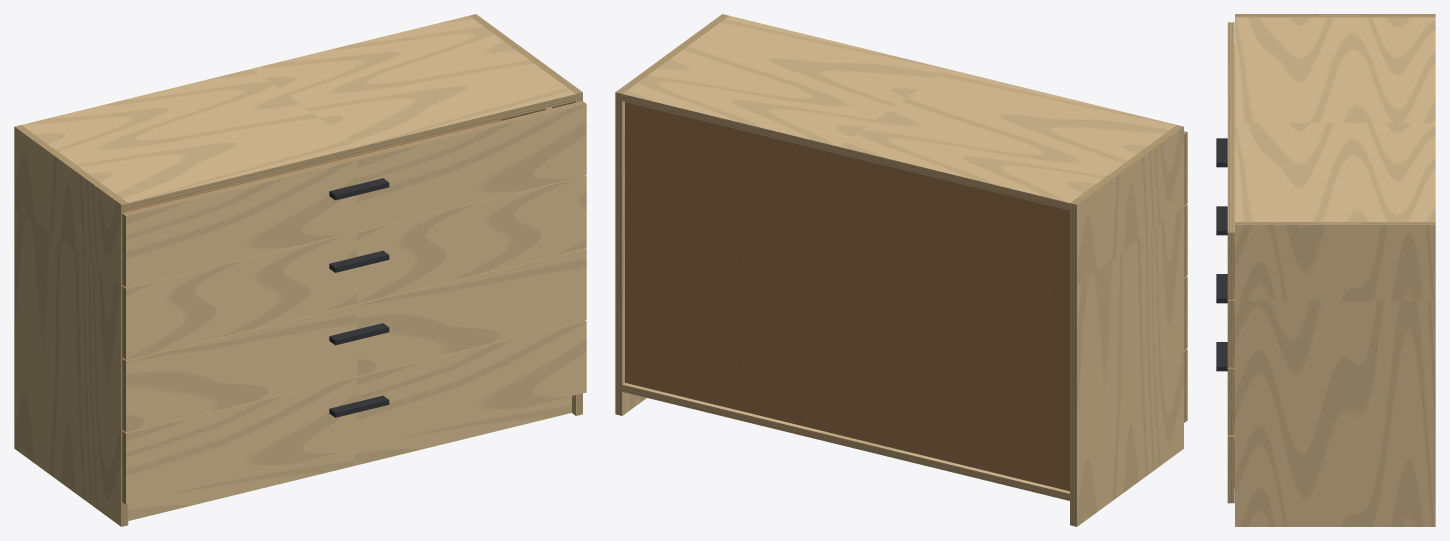
The model's file is SAB-DRS-std.glb.
The picture shows the model from 3 angles, left to right: view 1: azimuth 30°, elevation 25°; view 2: azimuth 150°, elevation 25°; view 3: azimuth 270°, elevation 25°; orthographic projection. The views are drawn at different scales.
Parts seen in each view (by area): view 1: top:sheet:eyJtIjoicGx5Iiwic2lkZSI6ImZhY2UiLCJzZWVkIjo2LCJ2ZW, side-l:sheet:eyJtIjoicGx5Iiwic2lkZSI6ImZhY2UiLCJzZWVkIjoxLCJ, d1-front:sheet:eyJtIjoicGx5Iiwic2lkZSI6ImZhY2UiLCJzZWVkIjoyL, d2-front:sheet:eyJtIjoicGx5Iiwic2lkZSI6ImZhY2UiLCJzZWVkIjo2L, d3-front:sheet:eyJtIjoicGx5Iiwic2lkZSI6ImZhY2UiLCJzZWVkIjowL, d4-front:sheet:eyJtIjoicGx5Iiwic2lkZSI6ImZhY2UiLCJzZWVkIjoyL, plinth:sheet:eyJtIjoicGx5Iiwic2lkZSI6ImZhY2UiLCJzZWVkIjozLCJ, top:sheet:eyJtIjoicGx5Iiwic2lkZSI6ImVkZ2UtbG9uZyIsInNlZWQiOj, pull, d4-front:sheet:eyJtIjoicGx5Iiwic2lkZSI6ImVkZ2UtbG9uZyIsInNlZ, d1-front:sheet:eyJtIjoicGx5Iiwic2lkZSI6ImVkZ2UtbG9uZyIsInNlZ, d2-front:sheet:eyJtIjoicGx5Iiwic2lkZSI6ImVkZ2UtbG9uZyIsInNlZ (+5 smaller); view 2: back:sheet:eyJtIjoibWRmIiwic2lkZSI6ImZhY2UiLCJzZWVkIjo0LCJ0a, top:sheet:eyJtIjoicGx5Iiwic2lkZSI6ImZhY2UiLCJzZWVkIjo2LCJ2ZW, side-l:sheet:eyJtIjoicGx5Iiwic2lkZSI6ImZhY2UiLCJzZWVkIjoxLCJ, top:sheet:eyJtIjoicGx5Iiwic2lkZSI6ImVkZ2UtbG9uZyIsInNlZWQiOj, bottom:sheet:eyJtIjoicGx5Iiwic2lkZSI6ImVkZ2UtbG9uZyIsInNlZWQ, side-r:sheet:eyJtIjoicGx5Iiwic2lkZSI6ImVkZ2UtbG9uZyIsInNlZWQ, side-l:sheet:eyJtIjoicGx5Iiwic2lkZSI6ImVkZ2UtbG9uZyIsInNlZWQ, bottom:sheet:eyJtIjoicGx5Iiwic2lkZSI6ImZhY2UiLCJzZWVkIjowLCJ, side-r:sheet:eyJtIjoicGx5Iiwic2lkZSI6ImZhY2UiLCJzZWVkIjozLCJ, side-r:sheet:eyJtIjoicGx5Iiwic2lkZSI6ImVkZ2UtZW5kIiwic2VlZCI, side-l:sheet:eyJtIjoicGx5Iiwic2lkZSI6ImVkZ2UtZW5kIiwic2VlZCI; view 3: side-r:sheet:eyJtIjoicGx5Iiwic2lkZSI6ImZhY2UiLCJzZWVkIjozLCJ, top:sheet:eyJtIjoicGx5Iiwic2lkZSI6ImZhY2UiLCJzZWVkIjo2LCJ2ZW, d4-front:sheet:eyJtIjoicGx5Iiwic2lkZSI6ImVkZ2UtbG9uZyIsInNlZ, pull, side-l:sheet:eyJtIjoicGx5Iiwic2lkZSI6ImVkZ2UtZW5kIiwic2VlZCI, side-r:sheet:eyJtIjoicGx5Iiwic2lkZSI6ImVkZ2UtZW5kIiwic2VlZCI, d3-front:sheet:eyJtIjoicGx5Iiwic2lkZSI6ImVkZ2UtZW5kIiwic2VlZ, d4-front:sheet:eyJtIjoicGx5Iiwic2lkZSI6ImVkZ2UtZW5kIiwic2VlZ, d1-front:sheet:eyJtIjoicGx5Iiwic2lkZSI6ImVkZ2UtZW5kIiwic2VlZ, d2-front:sheet:eyJtIjoicGx5Iiwic2lkZSI6ImVkZ2UtZW5kIiwic2VlZ.
Boxes of the visible parts, left/top/right/bottom form: top:sheet:eyJtIjoicGx5Iiwic2lkZSI6ImZhY2UiLCJzZWVkIjo2LCJ2ZW: left=22, top=16, right=575, bottom=202; side-l:sheet:eyJtIjoicGx5Iiwic2lkZSI6ImZhY2UiLCJzZWVkIjoxLCJ: left=14, top=127, right=121, bottom=526; d1-front:sheet:eyJtIjoicGx5Iiwic2lkZSI6ImZhY2UiLCJzZWVkIjoyL: left=126, top=321, right=586, bottom=504; d2-front:sheet:eyJtIjoicGx5Iiwic2lkZSI6ImZhY2UiLCJzZWVkIjo2L: left=126, top=249, right=586, bottom=432; d3-front:sheet:eyJtIjoicGx5Iiwic2lkZSI6ImZhY2UiLCJzZWVkIjowL: left=126, top=176, right=586, bottom=359; d4-front:sheet:eyJtIjoicGx5Iiwic2lkZSI6ImZhY2UiLCJzZWVkIjoyL: left=126, top=104, right=586, bottom=287; plinth:sheet:eyJtIjoicGx5Iiwic2lkZSI6ImZhY2UiLCJzZWVkIjozLCJ: left=128, top=396, right=571, bottom=520; top:sheet:eyJtIjoicGx5Iiwic2lkZSI6ImVkZ2UtbG9uZyIsInNlZWQiOj: left=128, top=94, right=575, bottom=210; pull: left=329, top=178, right=389, bottom=417; d4-front:sheet:eyJtIjoicGx5Iiwic2lkZSI6ImVkZ2UtbG9uZyIsInNlZ: left=122, top=101, right=585, bottom=215; d1-front:sheet:eyJtIjoicGx5Iiwic2lkZSI6ImVkZ2UtbG9uZyIsInNlZ: left=122, top=320, right=585, bottom=433; d2-front:sheet:eyJtIjoicGx5Iiwic2lkZSI6ImVkZ2UtbG9uZyIsInNlZ: left=122, top=248, right=585, bottom=360; back:sheet:eyJtIjoibWRmIiwic2lkZSI6ImZhY2UiLCJzZWVkIjo0LCJ0a: left=625, top=102, right=1069, bottom=491; top:sheet:eyJtIjoicGx5Iiwic2lkZSI6ImZhY2UiLCJzZWVkIjo2LCJ2ZW: left=623, top=15, right=1176, bottom=202; side-l:sheet:eyJtIjoicGx5Iiwic2lkZSI6ImZhY2UiLCJzZWVkIjoxLCJ: left=1077, top=127, right=1183, bottom=526; top:sheet:eyJtIjoicGx5Iiwic2lkZSI6ImVkZ2UtbG9uZyIsInNlZWQiOj: left=622, top=94, right=1069, bottom=210; bottom:sheet:eyJtIjoicGx5Iiwic2lkZSI6ImVkZ2UtbG9uZyIsInNlZWQ: left=622, top=384, right=1069, bottom=500; side-r:sheet:eyJtIjoicGx5Iiwic2lkZSI6ImVkZ2UtbG9uZyIsInNlZWQ: left=615, top=92, right=622, bottom=415; side-l:sheet:eyJtIjoicGx5Iiwic2lkZSI6ImVkZ2UtbG9uZyIsInNlZWQ: left=1070, top=203, right=1076, bottom=526; bottom:sheet:eyJtIjoicGx5Iiwic2lkZSI6ImZhY2UiLCJzZWVkIjowLCJ: left=623, top=383, right=1069, bottom=493; side-r:sheet:eyJtIjoicGx5Iiwic2lkZSI6ImZhY2UiLCJzZWVkIjozLCJ: left=622, top=101, right=646, bottom=415; side-r:sheet:eyJtIjoicGx5Iiwic2lkZSI6ImVkZ2UtZW5kIiwic2VlZCI: left=616, top=14, right=728, bottom=93; side-l:sheet:eyJtIjoicGx5Iiwic2lkZSI6ImVkZ2UtZW5kIiwic2VlZCI: left=1070, top=125, right=1183, bottom=204; side-r:sheet:eyJtIjoicGx5Iiwic2lkZSI6ImZhY2UiLCJzZWVkIjozLCJ: left=1235, top=225, right=1435, bottom=526; top:sheet:eyJtIjoicGx5Iiwic2lkZSI6ImZhY2UiLCJzZWVkIjo2LCJ2ZW: left=1235, top=17, right=1435, bottom=221; d4-front:sheet:eyJtIjoicGx5Iiwic2lkZSI6ImVkZ2UtbG9uZyIsInNlZ: left=1227, top=22, right=1234, bottom=232; pull: left=1216, top=138, right=1227, bottom=371; side-l:sheet:eyJtIjoicGx5Iiwic2lkZSI6ImVkZ2UtZW5kIiwic2VlZCI: left=1235, top=14, right=1435, bottom=17; side-r:sheet:eyJtIjoicGx5Iiwic2lkZSI6ImVkZ2UtZW5kIiwic2VlZCI: left=1235, top=222, right=1435, bottom=224; d3-front:sheet:eyJtIjoicGx5Iiwic2lkZSI6ImVkZ2UtZW5kIiwic2VlZ: left=1227, top=300, right=1234, bottom=367; d4-front:sheet:eyJtIjoicGx5Iiwic2lkZSI6ImVkZ2UtZW5kIiwic2VlZ: left=1227, top=232, right=1234, bottom=299; d1-front:sheet:eyJtIjoicGx5Iiwic2lkZSI6ImVkZ2UtZW5kIiwic2VlZ: left=1227, top=436, right=1234, bottom=503; d2-front:sheet:eyJtIjoicGx5Iiwic2lkZSI6ImVkZ2UtZW5kIiwic2VlZ: left=1227, top=368, right=1234, bottom=435.
Size of the model in its own units: 1.2 by 0.8 by 0.527.
91 materials, 90 textured.
